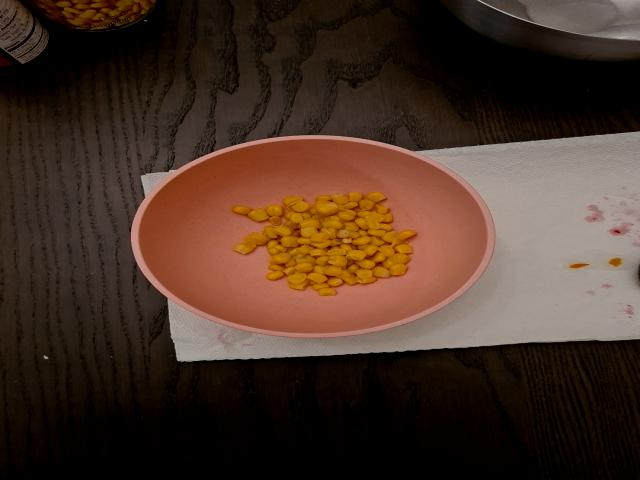kichen waste: (232, 191, 417, 297)
